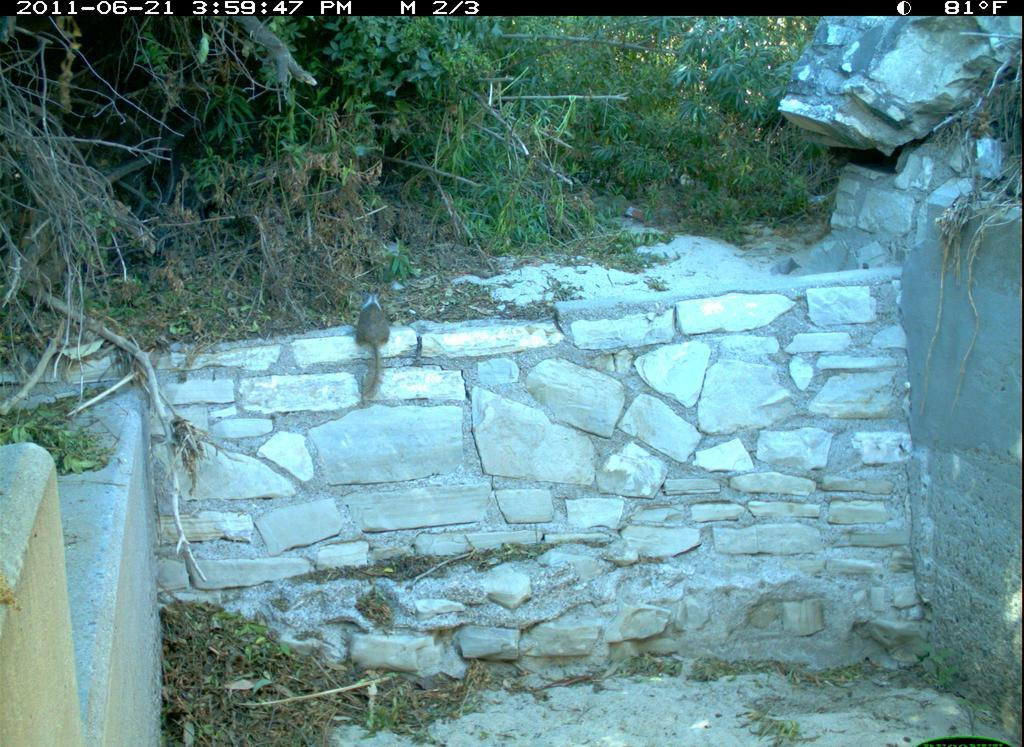squirrel: (341, 272, 400, 406)
